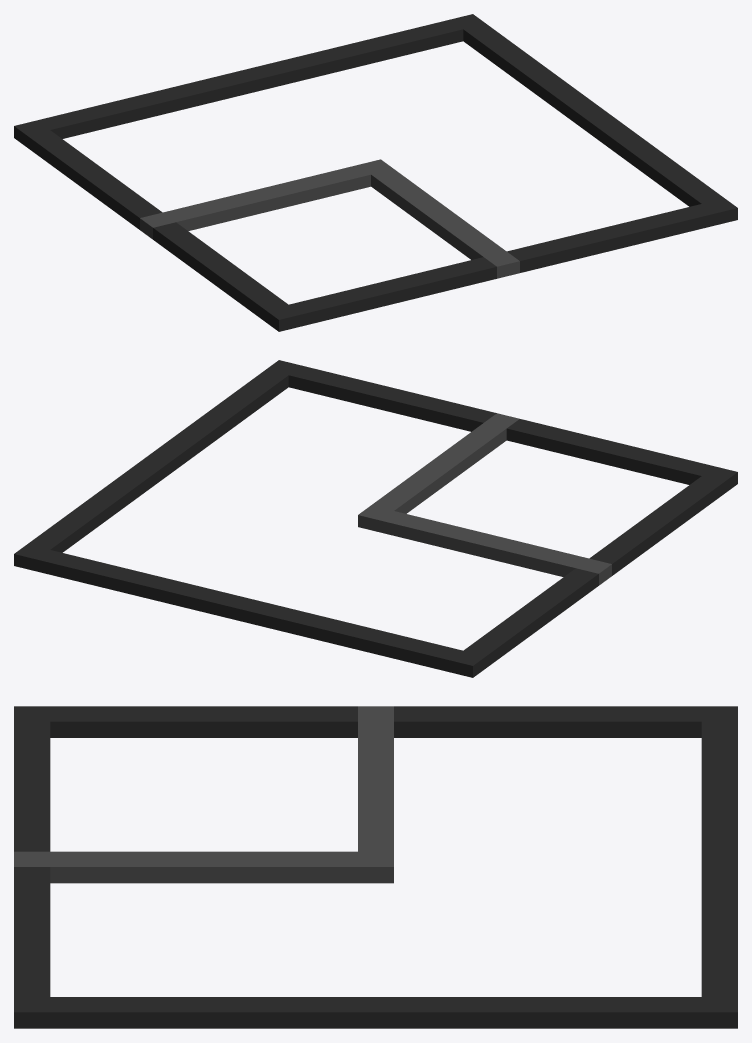
The model's file is movable_wire_turn.obj.
3 renders of one model, top to bottom at view 1: azimuth 30°, elevation 25°; view 2: azimuth 150°, elevation 25°; view 3: azimuth 270°, elevation 25°, orthographic. The views are drawn at different scales.
Size of the model in its own units: 4 by 0.1 by 4.
Materials: 1 (1 with a texture image).
